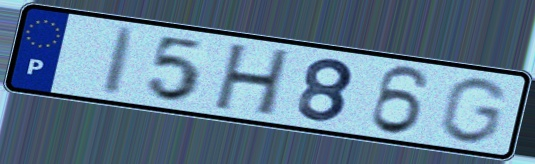5: (143, 34, 211, 104)
6: (367, 63, 432, 137)
8: (294, 55, 355, 125)
G: (434, 75, 511, 147)
H: (209, 41, 296, 119)
I: (98, 24, 142, 100)
